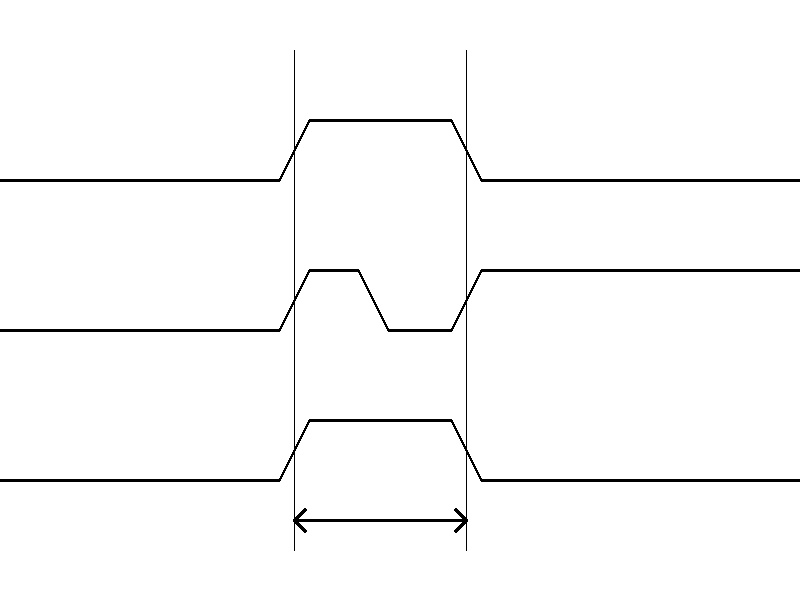double_arrow: (294, 505, 466, 535)
